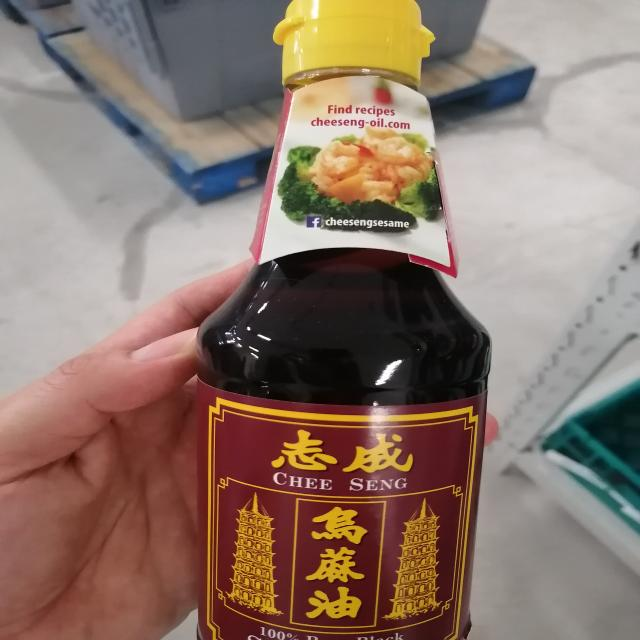object_name: (223, 0, 482, 640)
